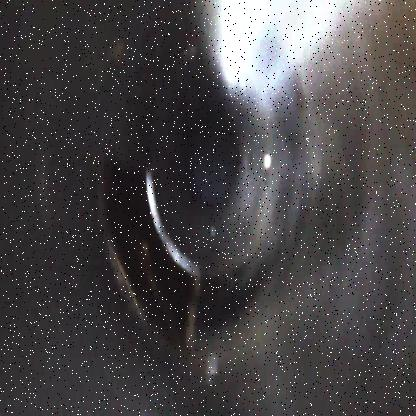Crack2: (100, 156, 202, 352)
